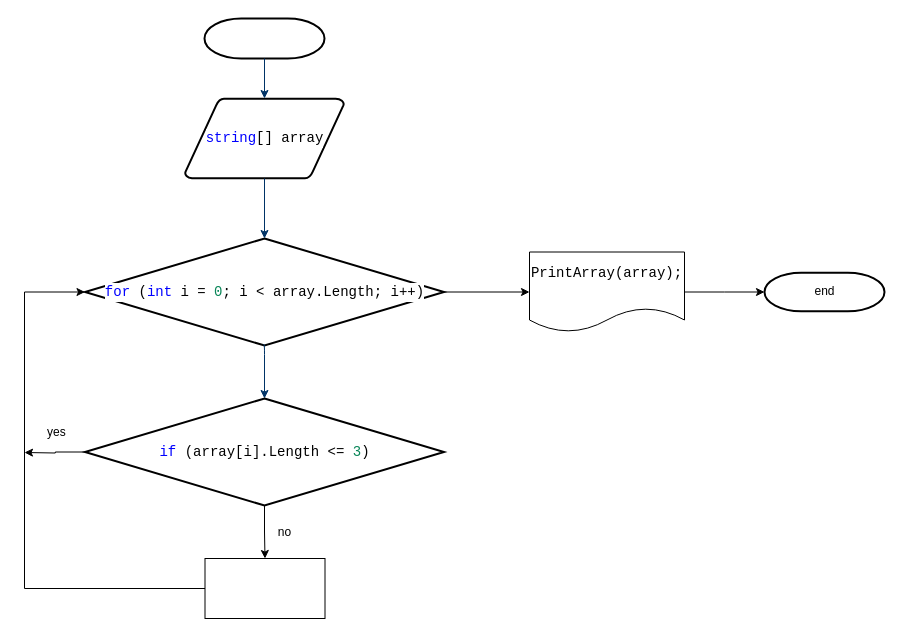
The diagram is 903 pixels wide and 644 high, and some of its shapes have lost their labels. Here are the shapes that lost their labels. From the top down, the centre of each, then its label:
point (264, 38): start
point (264, 588): i ++
